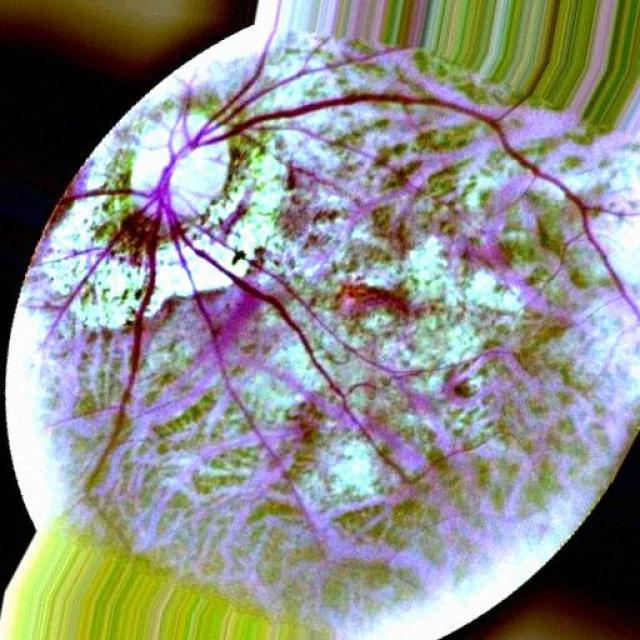Nerves: (51, 5, 639, 419), (50, 229, 122, 331)
Optic Disk: (130, 84, 228, 222)
